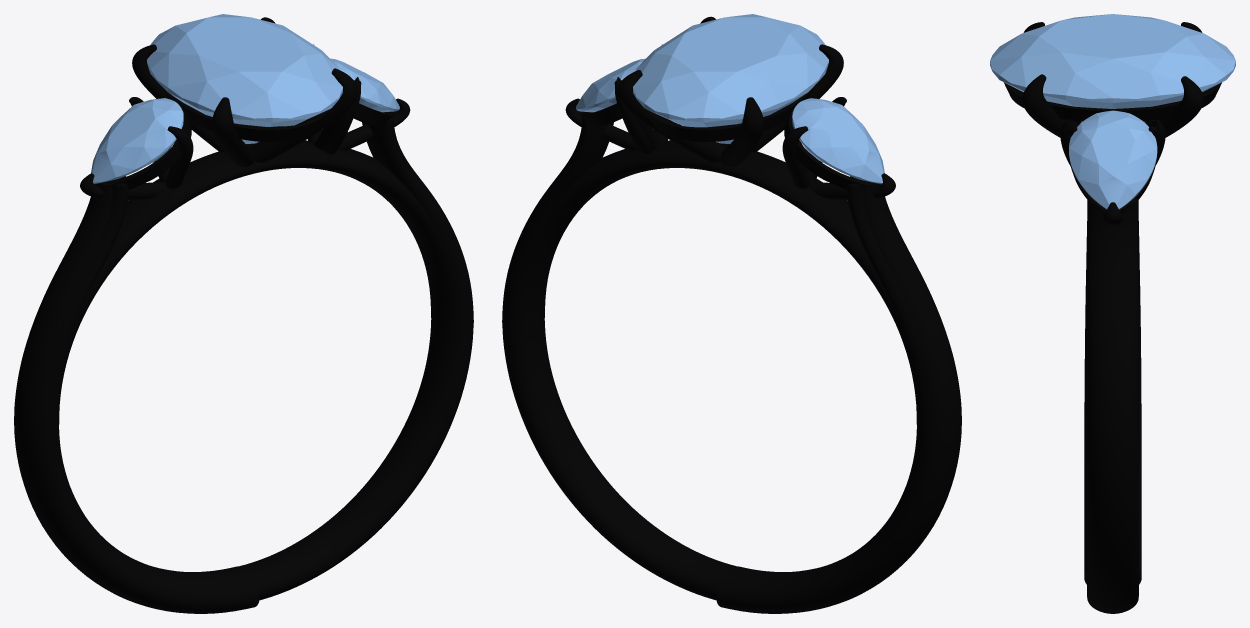
The picture shows the model from 3 angles, left to right: view 1: azimuth 30°, elevation 25°; view 2: azimuth 150°, elevation 25°; view 3: azimuth 270°, elevation 25°; orthographic projection.
Visible parts, largest first — view 1: oval and pear ring (1).3dm, Diamond_Oval, Diamond_Pear (×2); view 2: oval and pear ring (1).3dm, Diamond_Oval, Diamond_Pear (×2); view 3: oval and pear ring (1).3dm, Diamond_Oval, Diamond_Pear.
Boxes of the visible parts, x1,y1,x2,y2 form: oval and pear ring (1).3dm: (14,17,473,613); Diamond_Oval: (147,14,342,143); Diamond_Pear (×2): (91,58,399,183); oval and pear ring (1).3dm: (502,16,961,613); Diamond_Oval: (633,14,828,143); Diamond_Pear (×2): (576,58,884,184); oval and pear ring (1).3dm: (1004,22,1221,613); Diamond_Oval: (990,14,1235,121); Diamond_Pear: (1069,110,1157,209).
Bounding box in the file's own units: 2.48 × 2.95 × 1.18.
